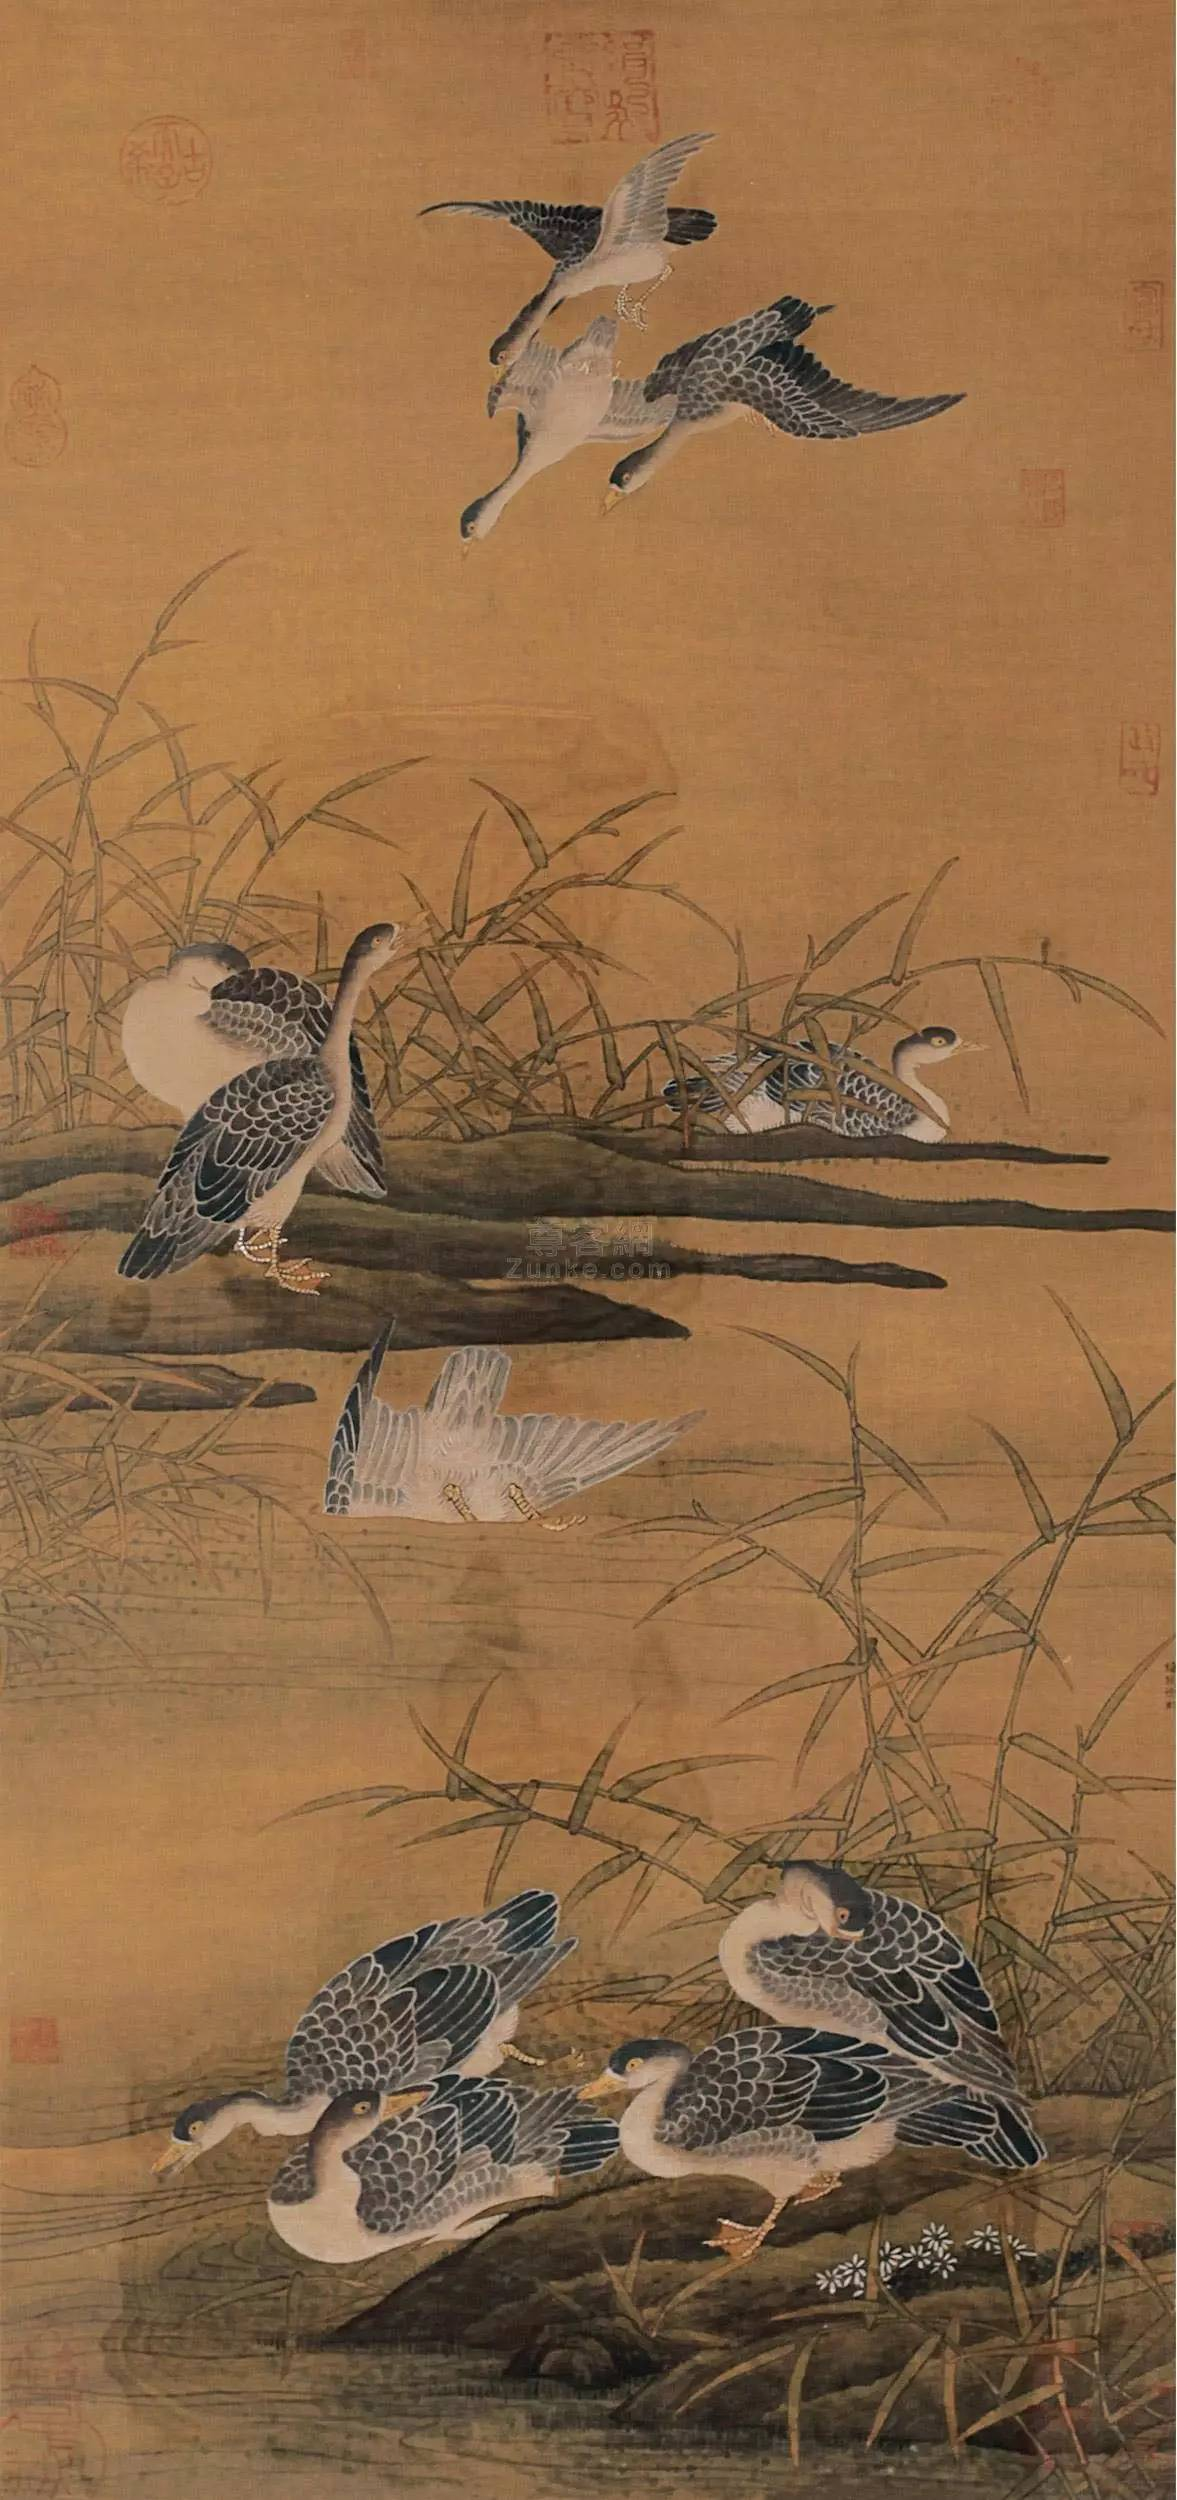bird: (190, 1854, 1077, 2262), (396, 155, 971, 555), (124, 941, 463, 1296), (321, 1331, 683, 1543), (726, 1017, 995, 1162)
